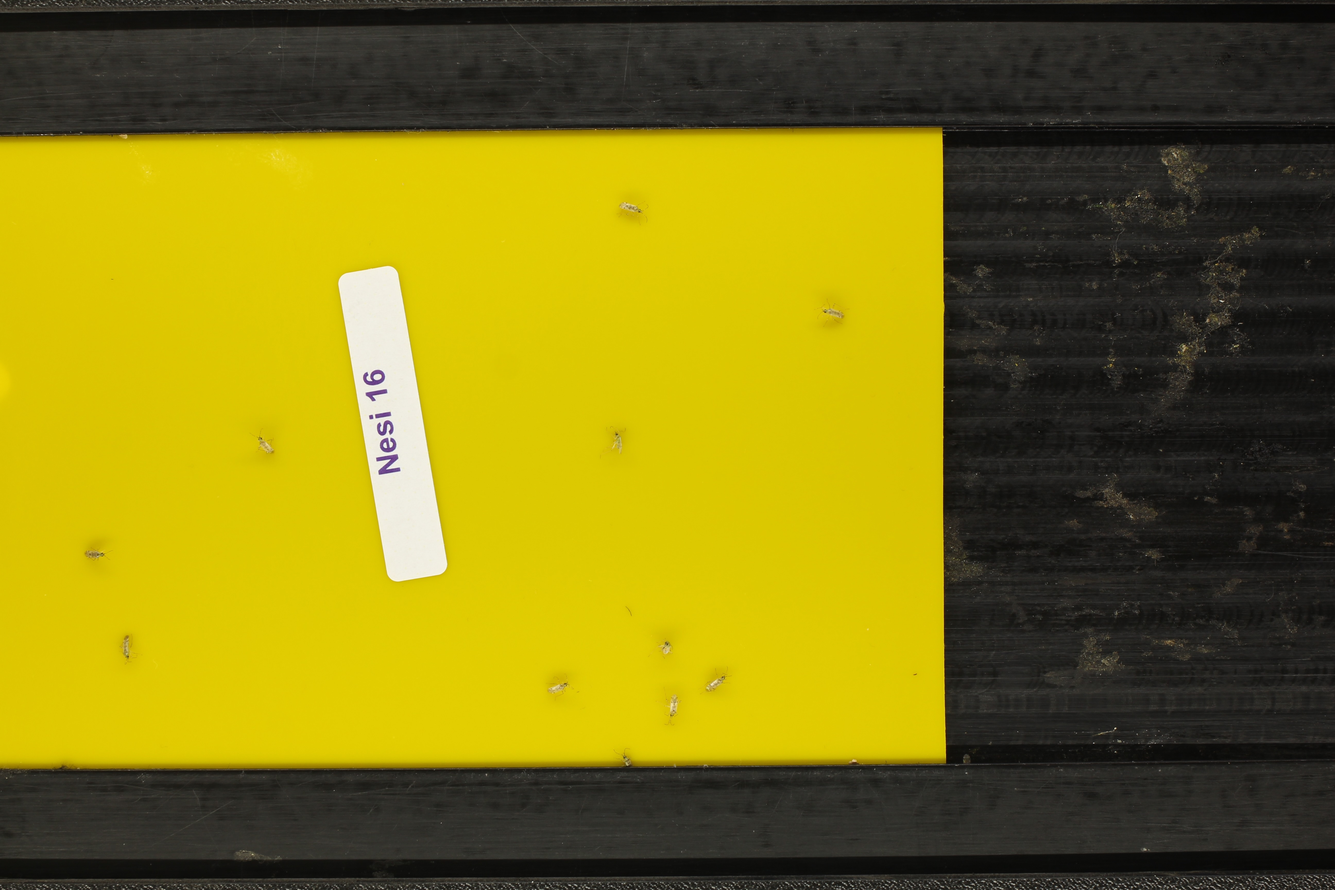NC: (695, 662, 735, 697), (611, 195, 653, 226), (542, 672, 584, 703), (659, 688, 689, 731), (812, 298, 852, 330), (115, 628, 145, 667), (251, 429, 281, 465), (78, 542, 119, 567), (599, 423, 631, 450), (614, 750, 640, 769)
